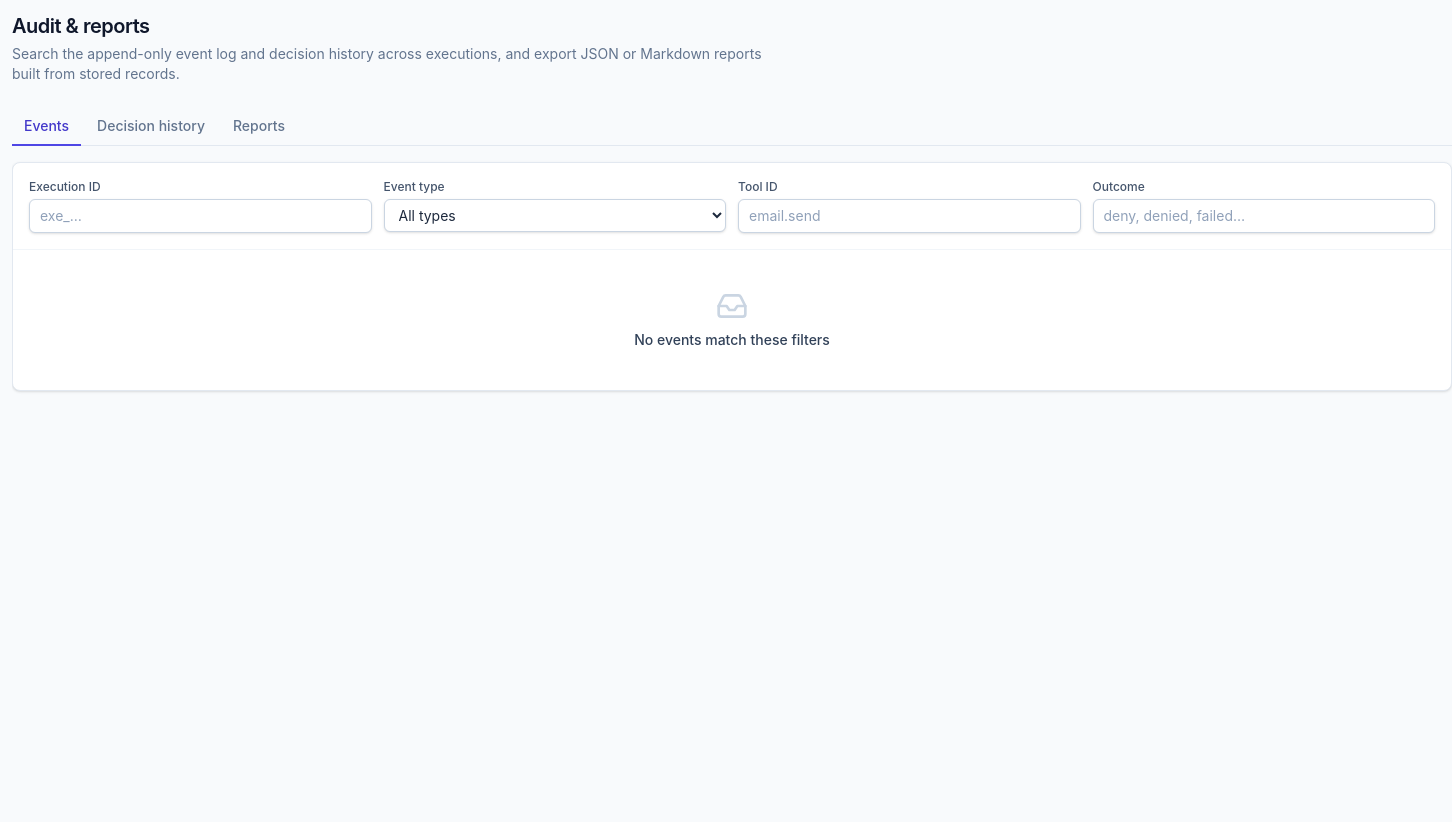
Test: Audit & reports › generates a report
The width and height of the screenshot is (1452, 822).
Click the tab "Reports".
click(259, 127)  # box [221,108,297,146]
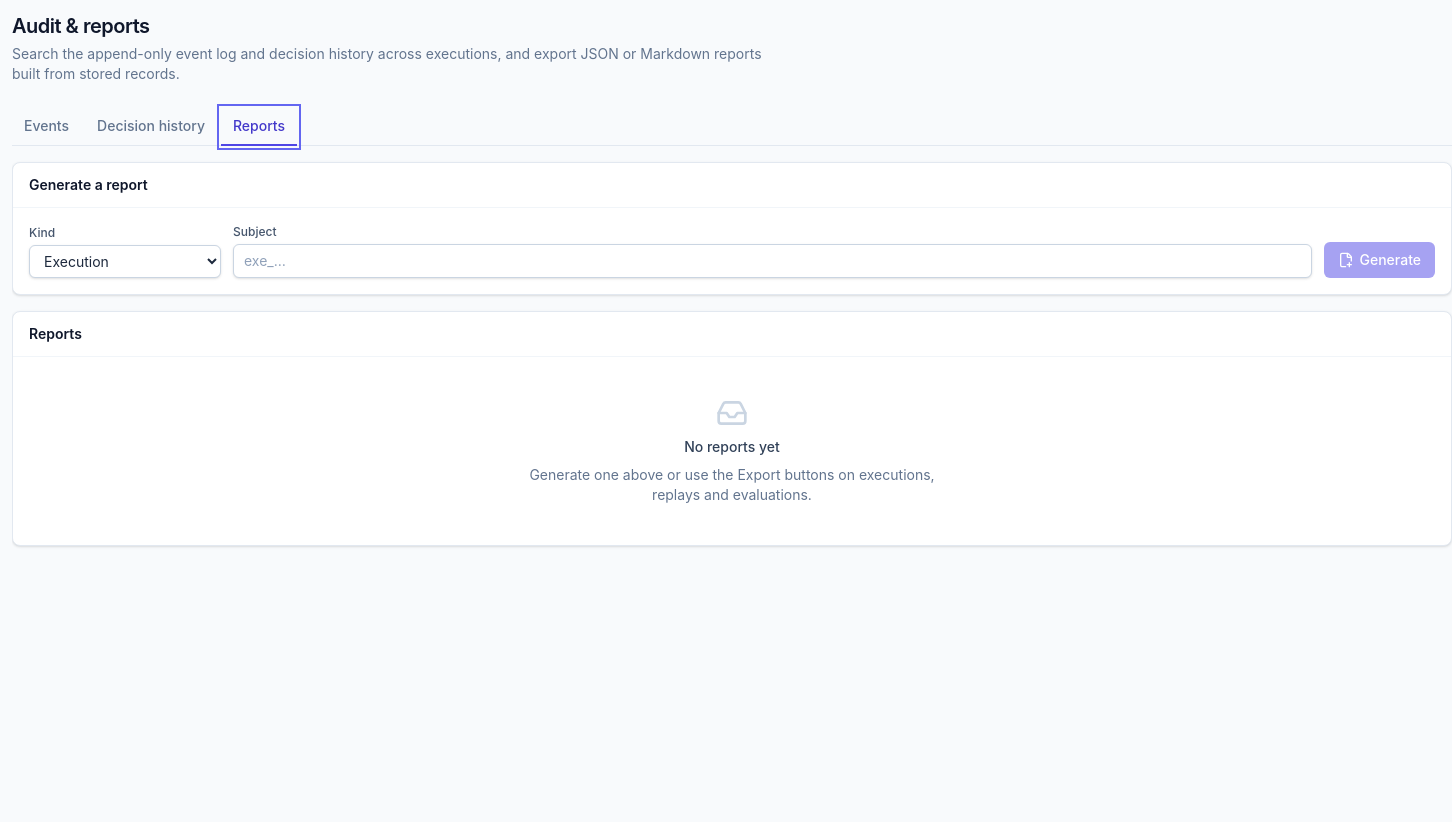
Type "exe_1" into the field labelled "Subject".
click(772, 261); type("exe_1")  # box [233,244,1312,278]
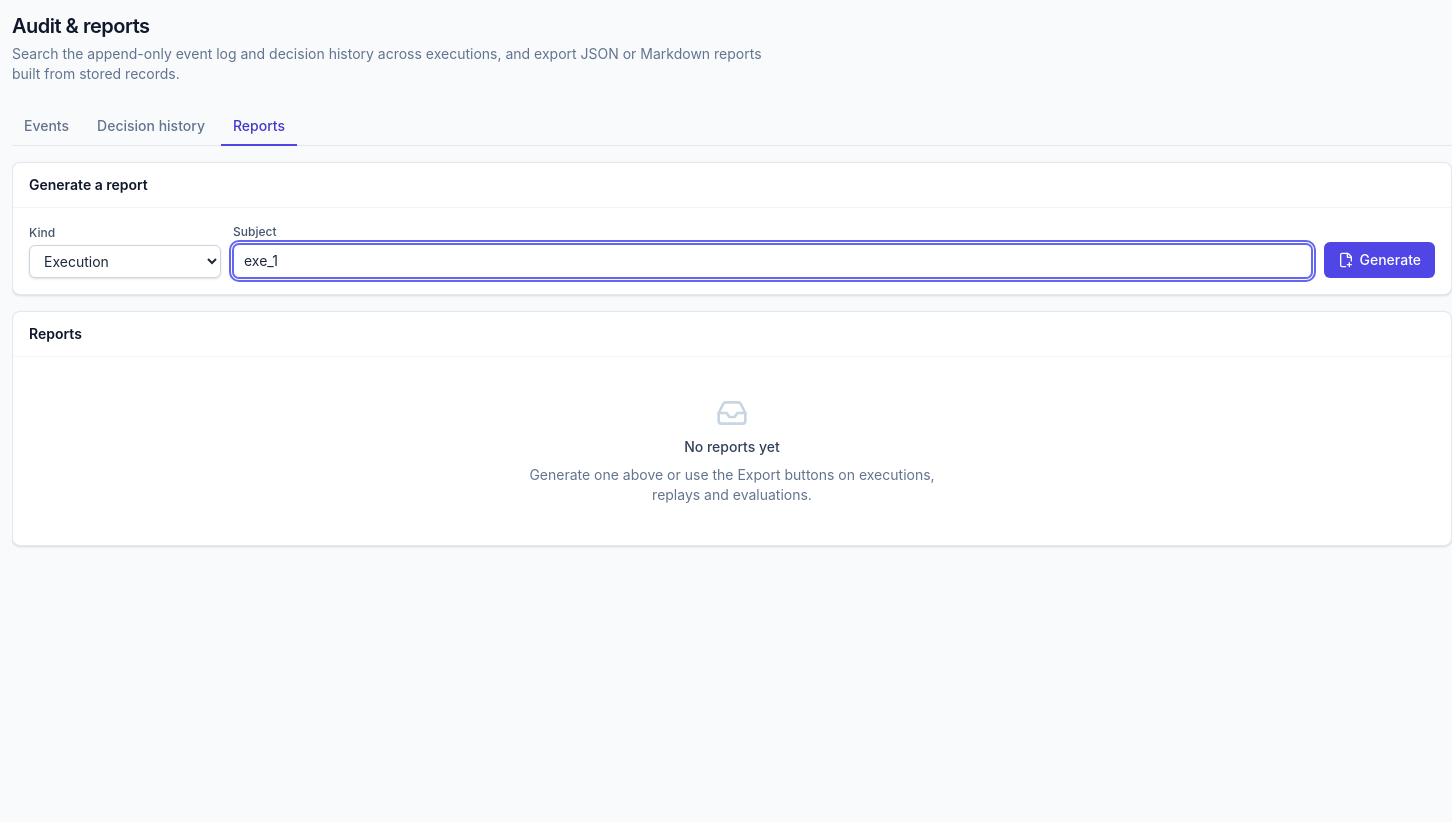
Click the button "Generate".
click(1379, 260)  # box [1324,242,1435,278]
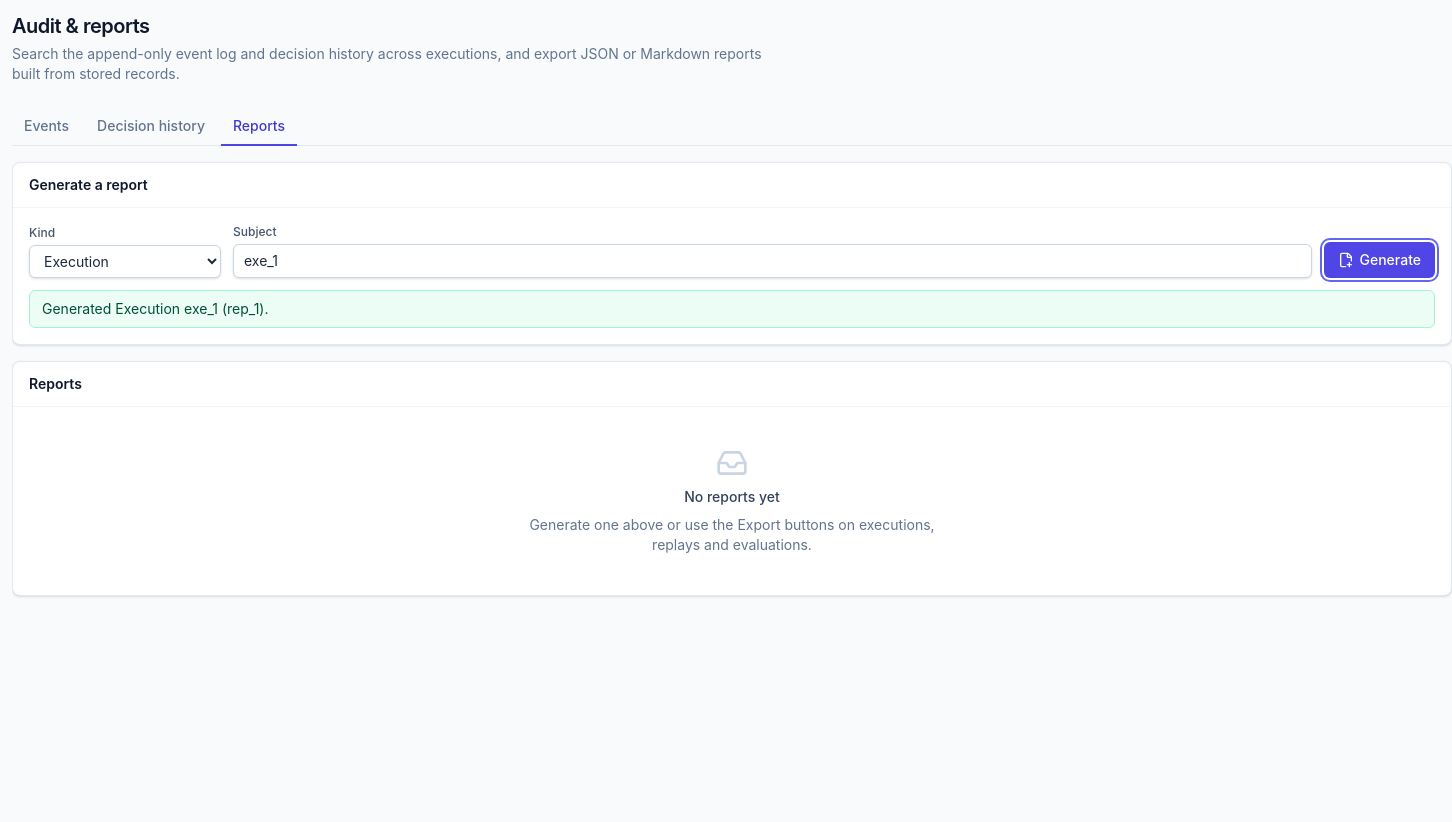
Now the text "Generated Execution exe_1 (rep_1)." is shown, box [29,290,1435,328]
